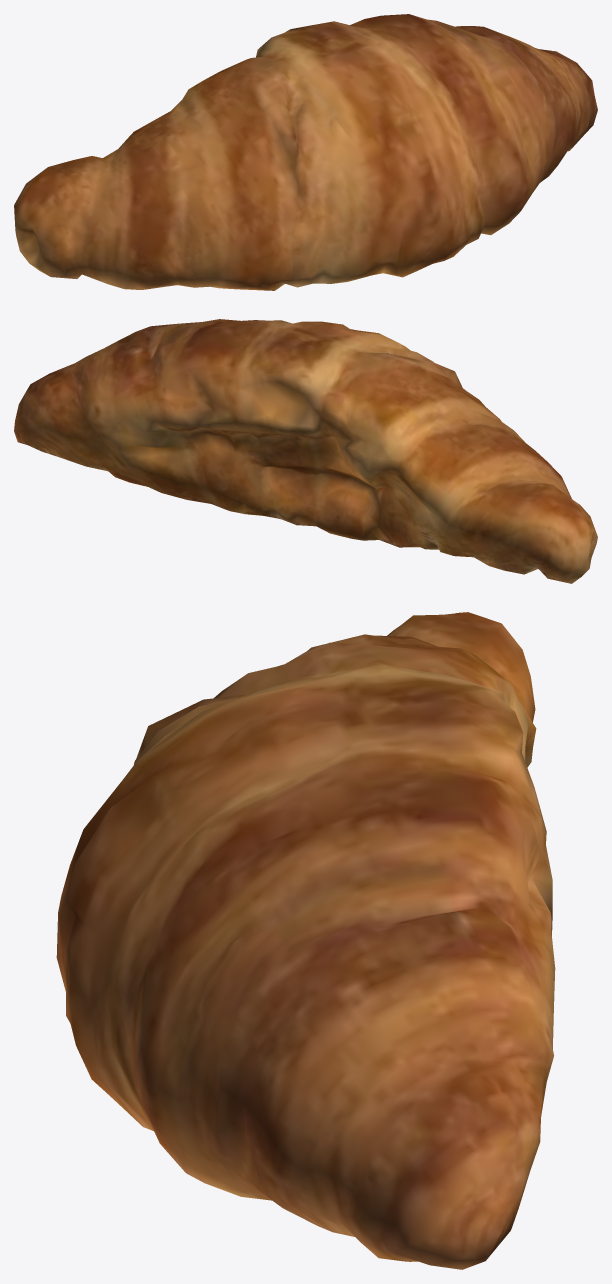
File: croissant.glb
3 views of the same model, one above another, from view 1: azimuth 30°, elevation 25°; view 2: azimuth 150°, elevation 25°; view 3: azimuth 270°, elevation 25° (orthographic). The views are drawn at different scales.
Parts seen in each view (by area): view 1: croissant; view 2: croissant; view 3: croissant.
Boxes of the visible parts, box(x1,y1,x2,y2) form: croissant: box(14, 14, 597, 290); croissant: box(14, 319, 597, 583); croissant: box(56, 612, 555, 1269).
Bounding box in the file's own units: 0.2 × 0.062 × 0.0755.
Materials: 1 (1 with a texture image).
